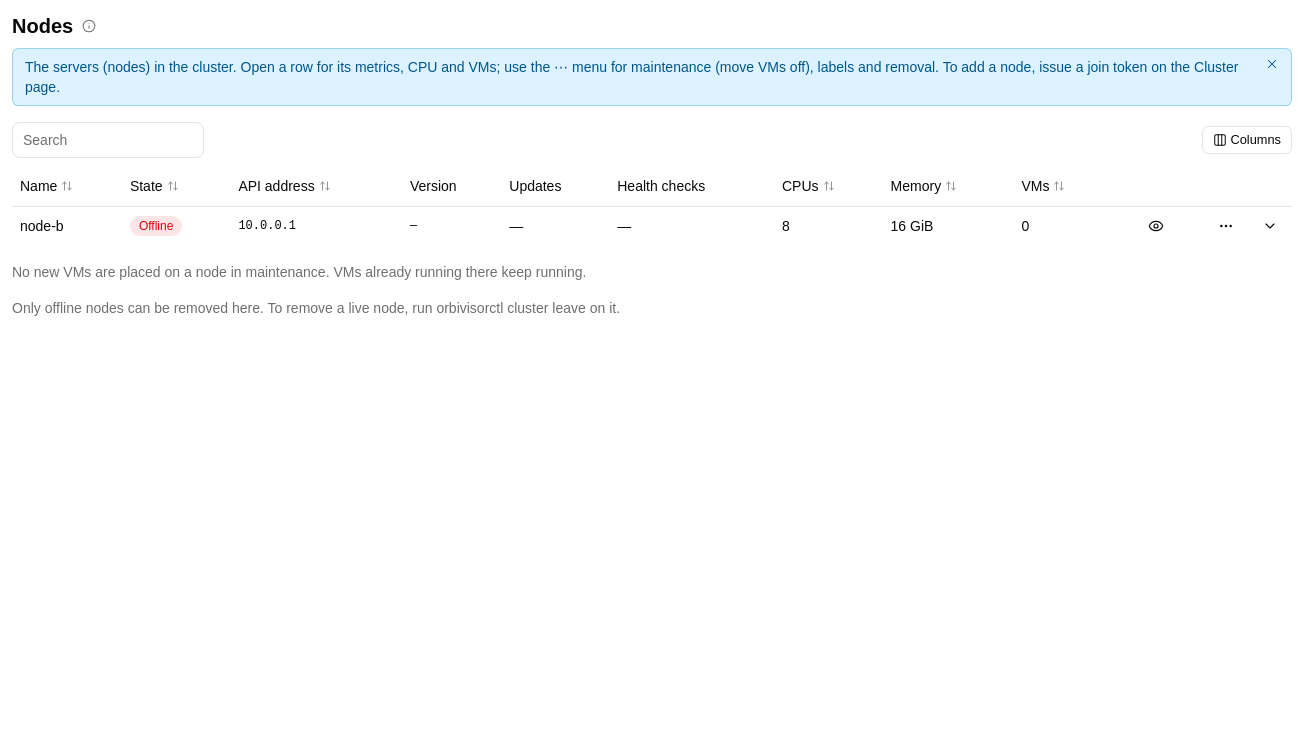
it: turns maintenance on and off with the revision it read
Click the button named "Actions for node-b": (1226, 226) [1212,212,1240,240]
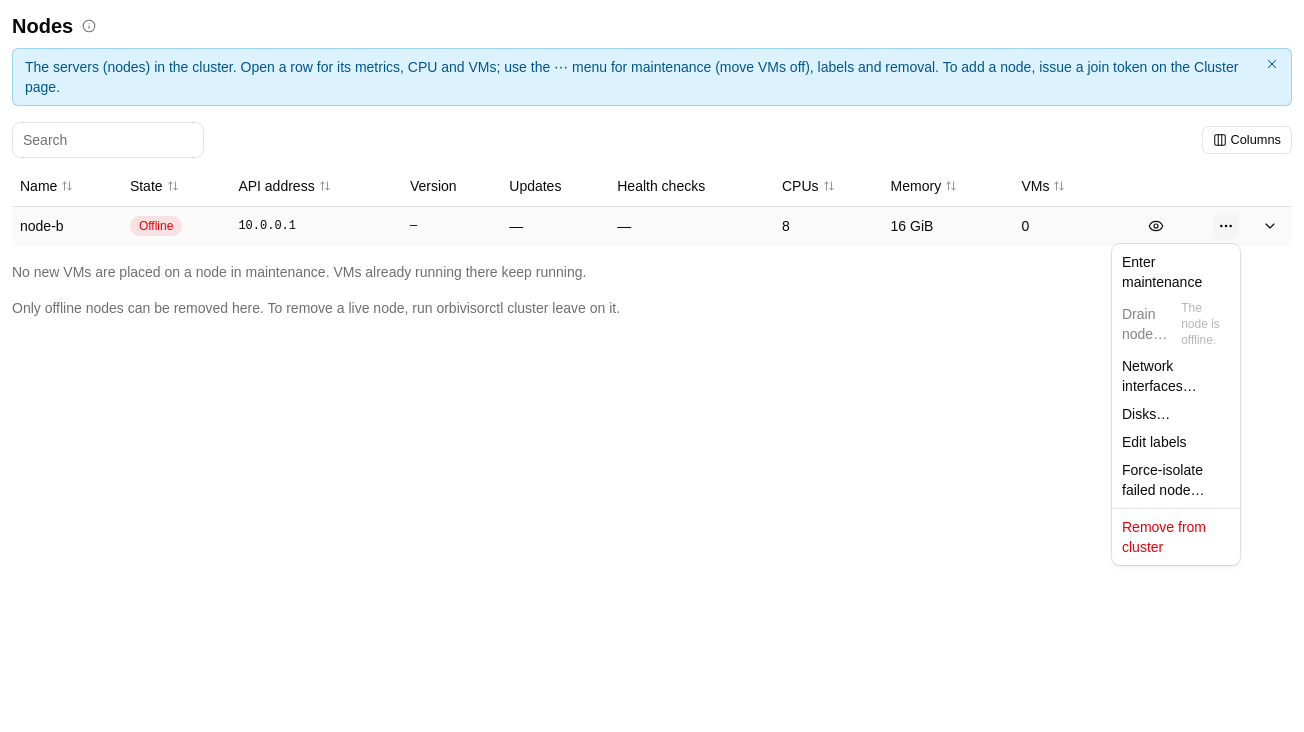
Click the menu item "Enter maintenance": (1162, 272) [1122,254,1202,290]
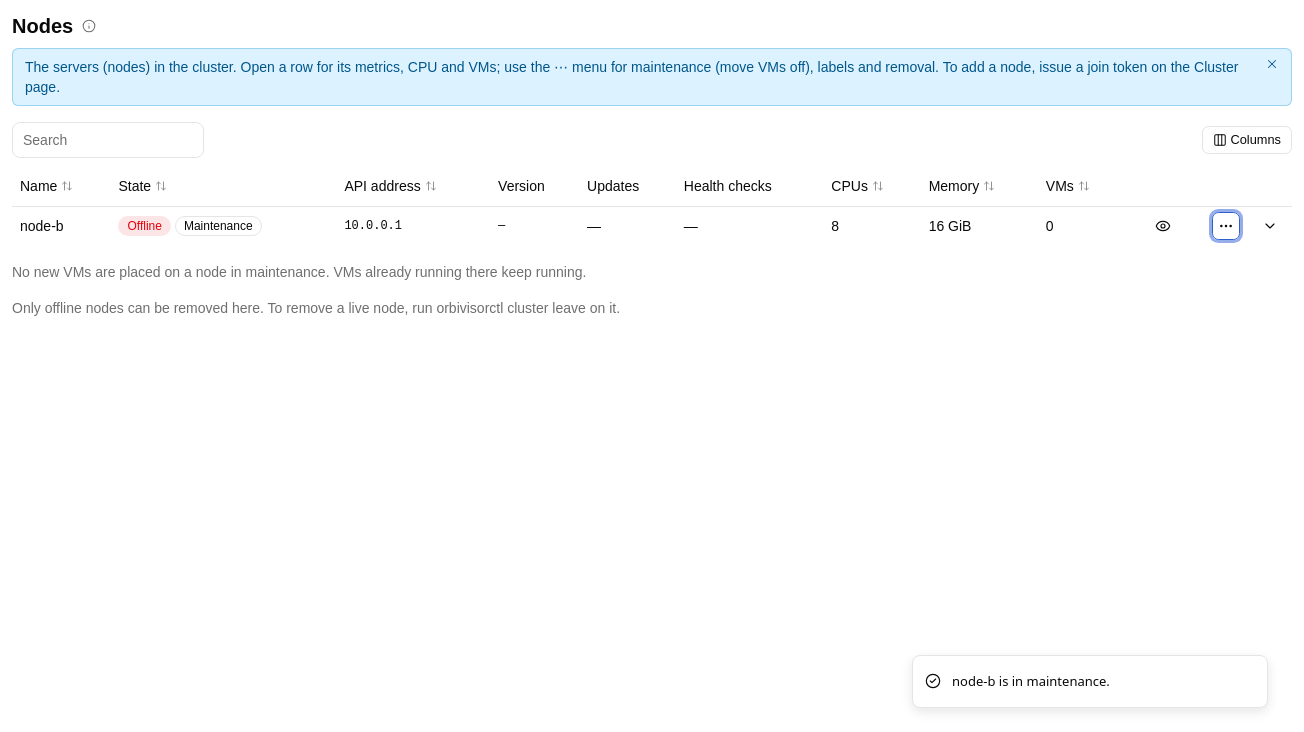
Result: the text "node-b is in maintenance." is shown at [952,672,1110,691]
# 응답을 바로 목록에 반영하므로 watch 이벤트를 기다리지 않고 다시 바꿀 수 있다.
Click the button named "Actions for node-b": (1226, 226) [1212,212,1240,240]
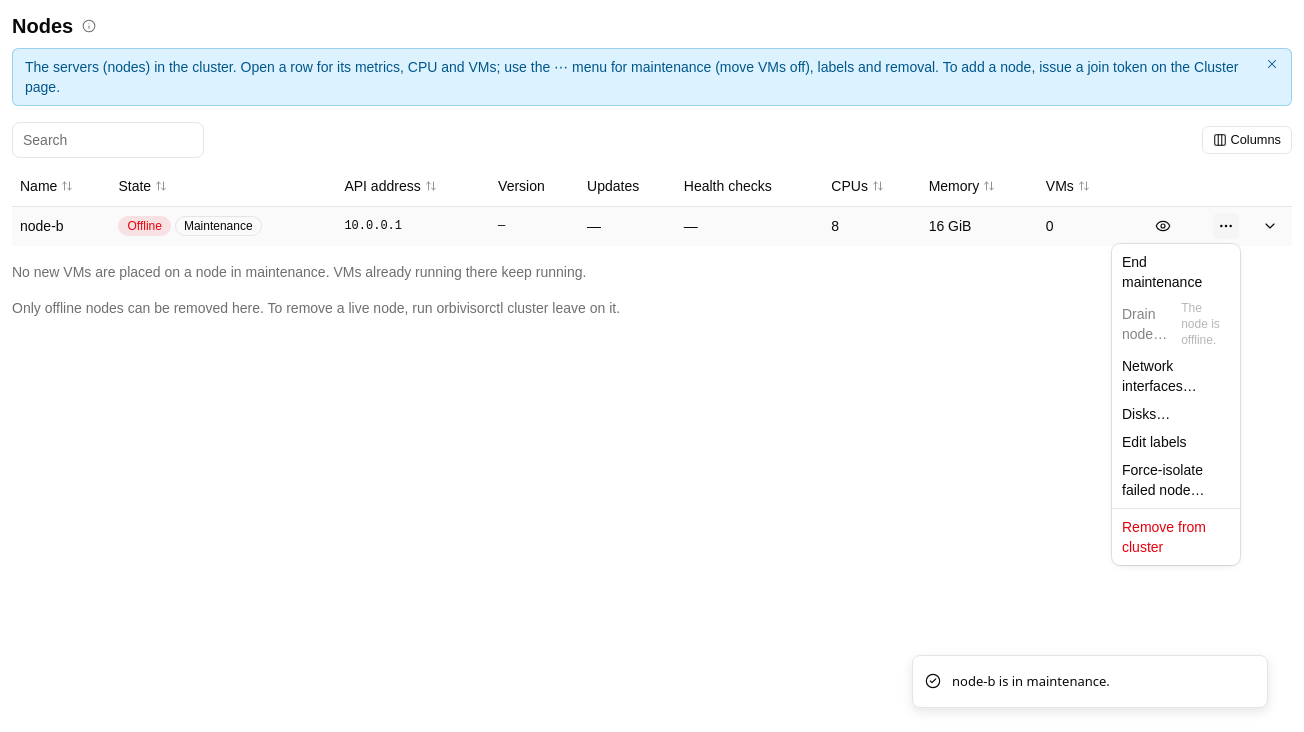
Click the menu item "End maintenance": (1162, 272) [1122,254,1202,290]
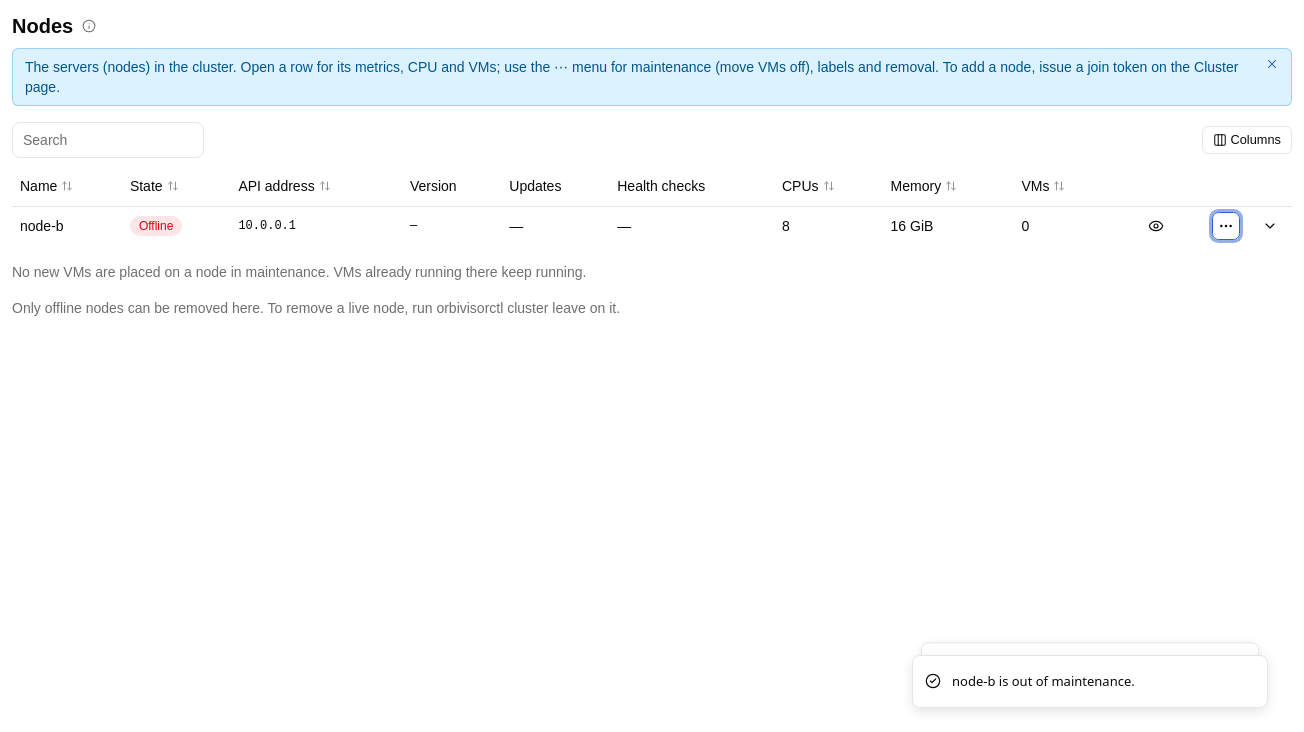
Result: the text "node-b is out of maintenance." is shown at [952,672,1135,691]
